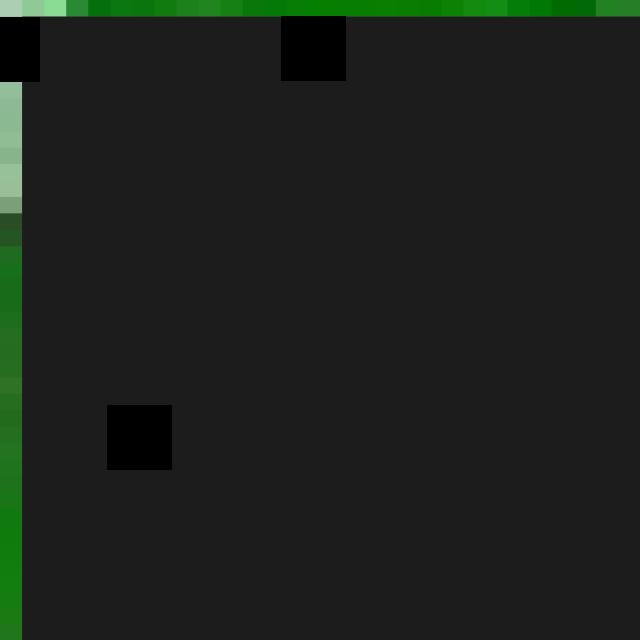nofire: (22, 16, 640, 640)
